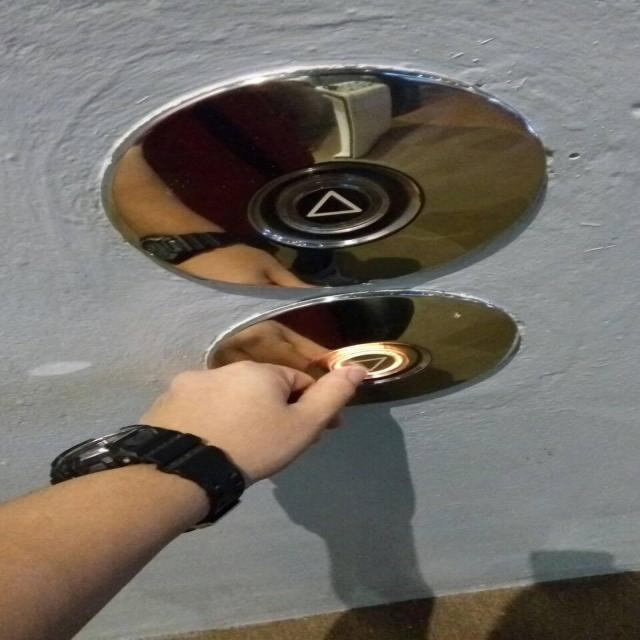down: (318, 341, 438, 383)
up: (241, 160, 429, 253)
